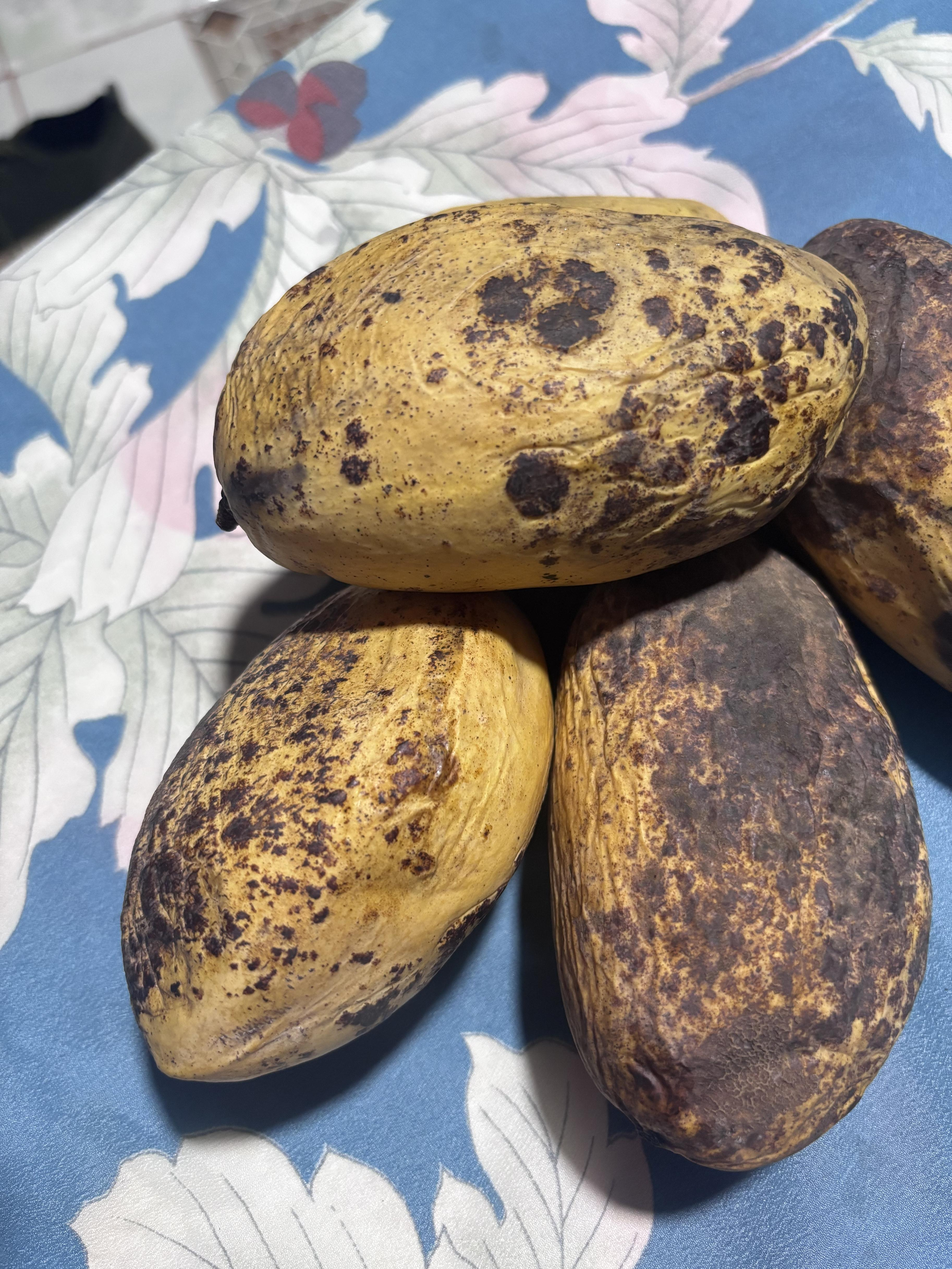mango: (214, 200, 866, 591), (551, 539, 930, 1170)
occluded: (122, 586, 553, 1081)
